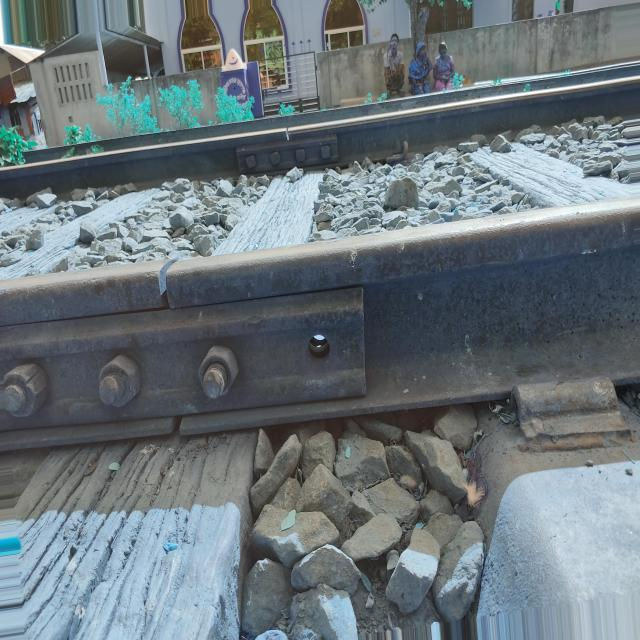Defective Joint: (0, 219, 402, 453)
Good Joint: (227, 123, 338, 193)
